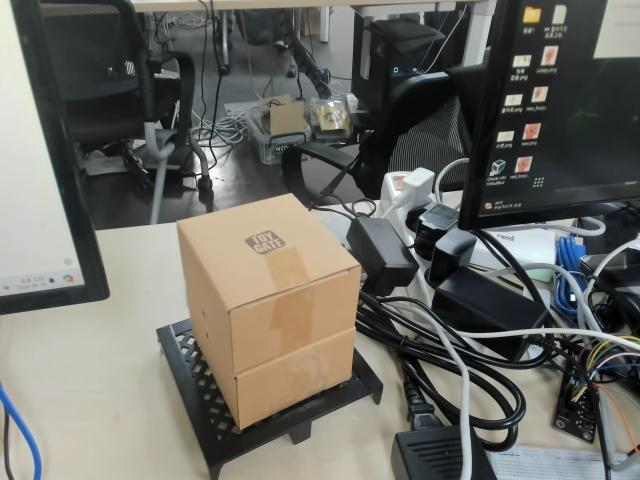box: (155, 192, 387, 480)
